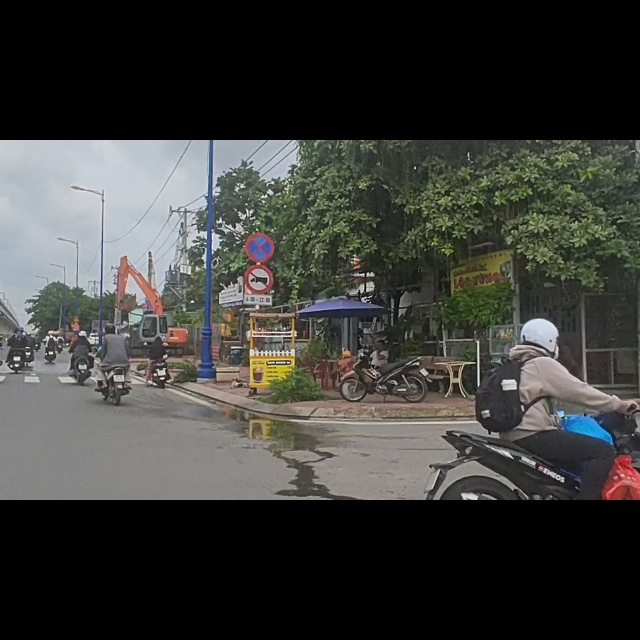bien_cam: (244, 164, 275, 217), (245, 223, 274, 275)
